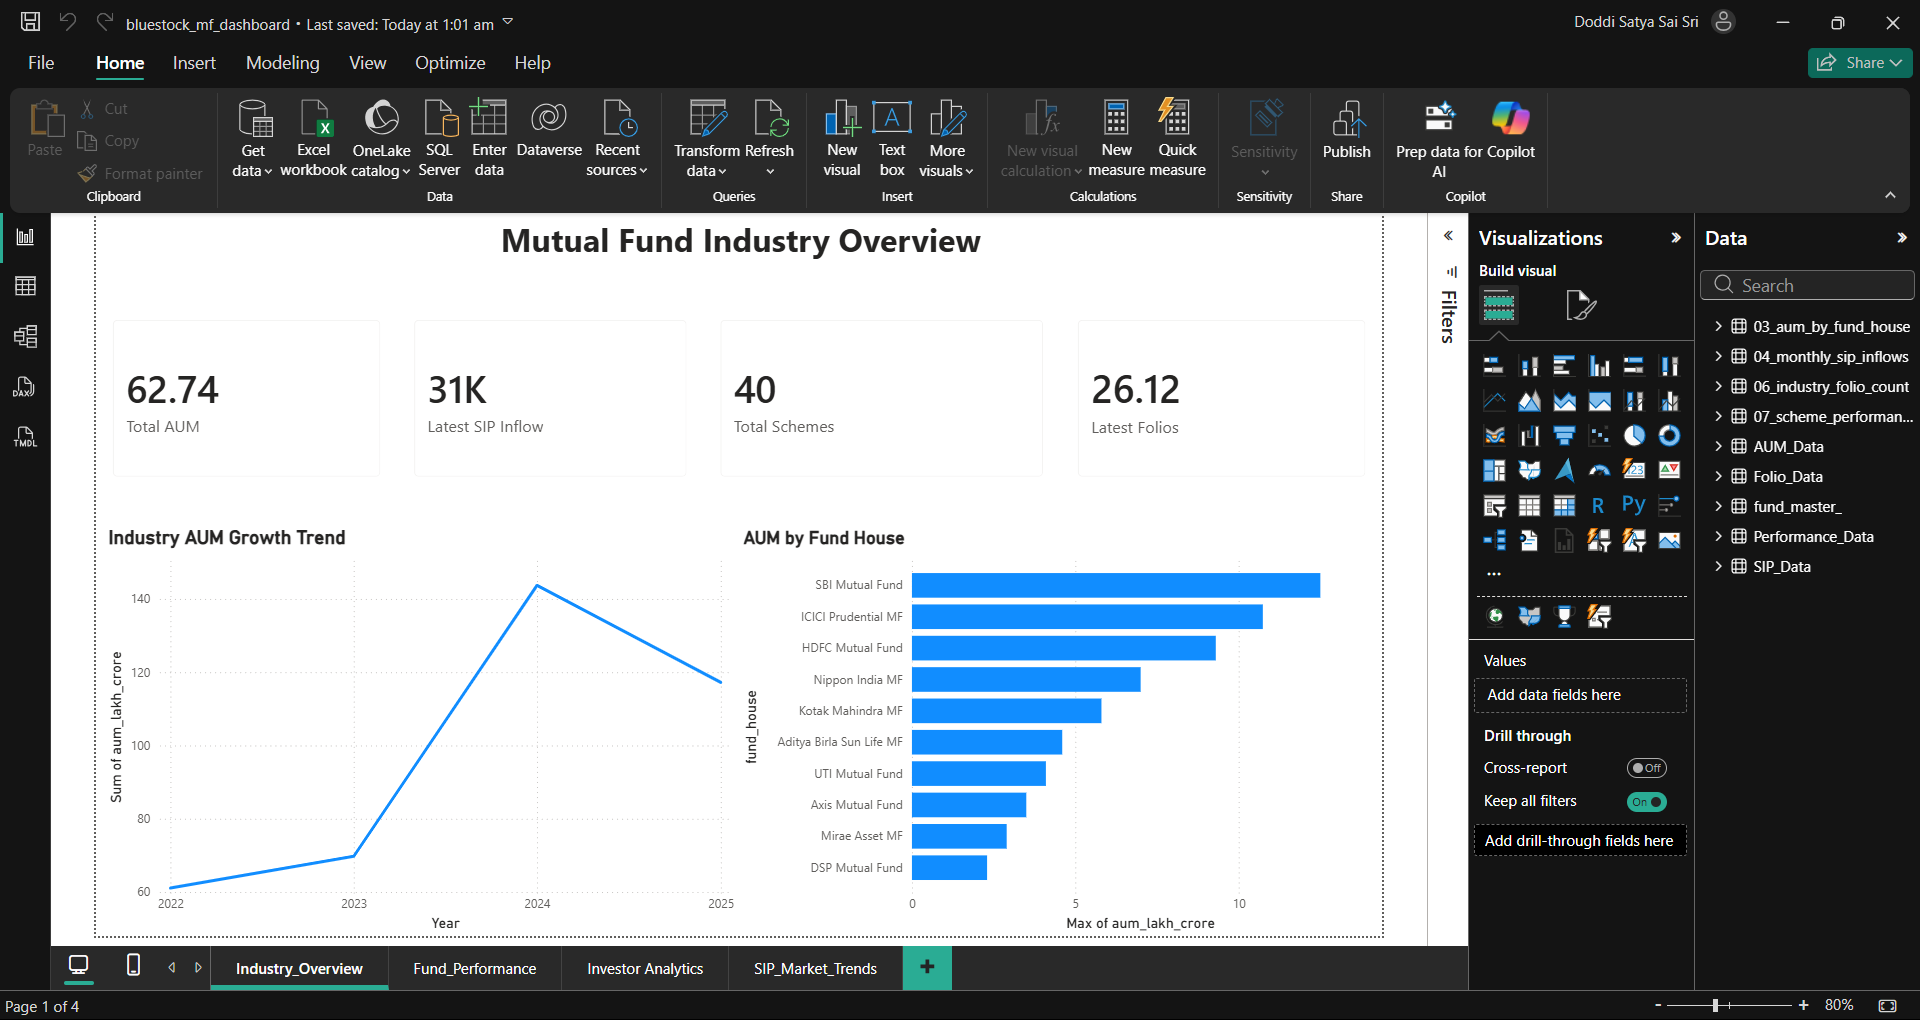

The page's visual inventory and layout, read from the dashboard file:
{"tool":"powerbi","page":{"name":"Industry_Overview","canvas":[1280,720],"ordinal":0},"visuals":[{"type":"cardVisual","fields":{"Data":["03_aum_by_fund_house.Latest SIP Inflow"]},"box":[300,90,305,190],"z":0},{"type":"cardVisual","fields":{"Data":["03_aum_by_fund_house.Total Schemes"]},"box":[605,90,355,190],"z":1000},{"type":"cardVisual","fields":{"Data":["03_aum_by_fund_house.Total AUM"]},"box":[0,90,300,190],"z":2000},{"type":"cardVisual","fields":{"Data":["03_aum_by_fund_house.Latest Folios"]},"box":[960,90,320,190],"z":3000},{"type":"lineChart","title":"Industry AUM Growth Trend","fields":{"Category":["03_aum_by_fund_house.date.Variation.Date Hierarchy.Year","03_aum_by_fund_house.date.Variation.Date Hierarchy.Quarter","03_aum_by_fund_house.date.Variation.Date Hierarchy.Month","03_aum_by_fund_house.date.Variation.Date Hierarchy.Day"],"Y":["Sum(03_aum_by_fund_house.aum_lakh_crore)"]},"box":[7.5,312.5,632.5,407.5],"z":4000},{"type":"clusteredBarChart","title":"AUM by Fund House","fields":{"Category":["AUM_Data.fund_house"],"Y":["Max(AUM_Data.aum_lakh_crore)"]},"box":[640,312.5,640,407.5],"z":5000},{"type":"textbox","box":[140,0,1002.5,90],"z":6000}]}

Visuals, with their boxes on the page's 1280x720 design canvas (x1, y1, x2, y2). These are canvas units, not pixel positions in the 1920x1020 screenshot, which may show the page scaled, cropped or inside an application window:
cardVisual - 03_aum_by_fund_house.Latest SIP Inflow: [x1=300, y1=90, x2=605, y2=280]
cardVisual - 03_aum_by_fund_house.Total Schemes: [x1=605, y1=90, x2=960, y2=280]
cardVisual - 03_aum_by_fund_house.Total AUM: [x1=0, y1=90, x2=300, y2=280]
cardVisual - 03_aum_by_fund_house.Latest Folios: [x1=960, y1=90, x2=1280, y2=280]
"Industry AUM Growth Trend" lineChart: [x1=8, y1=312, x2=640, y2=720]
"AUM by Fund House" clusteredBarChart: [x1=640, y1=312, x2=1280, y2=720]
textbox: [x1=140, y1=0, x2=1142, y2=90]
